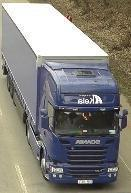Truck: (2, 3, 122, 185)
